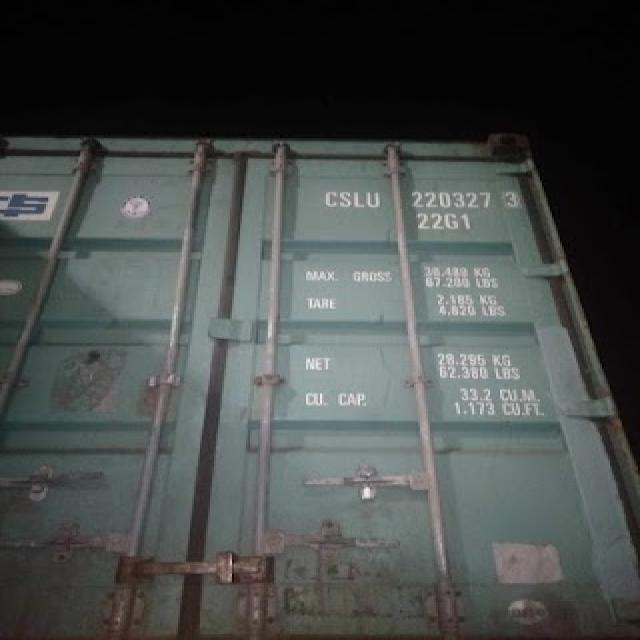ISO: (418, 212, 474, 236)
container_number: (326, 188, 512, 210)
